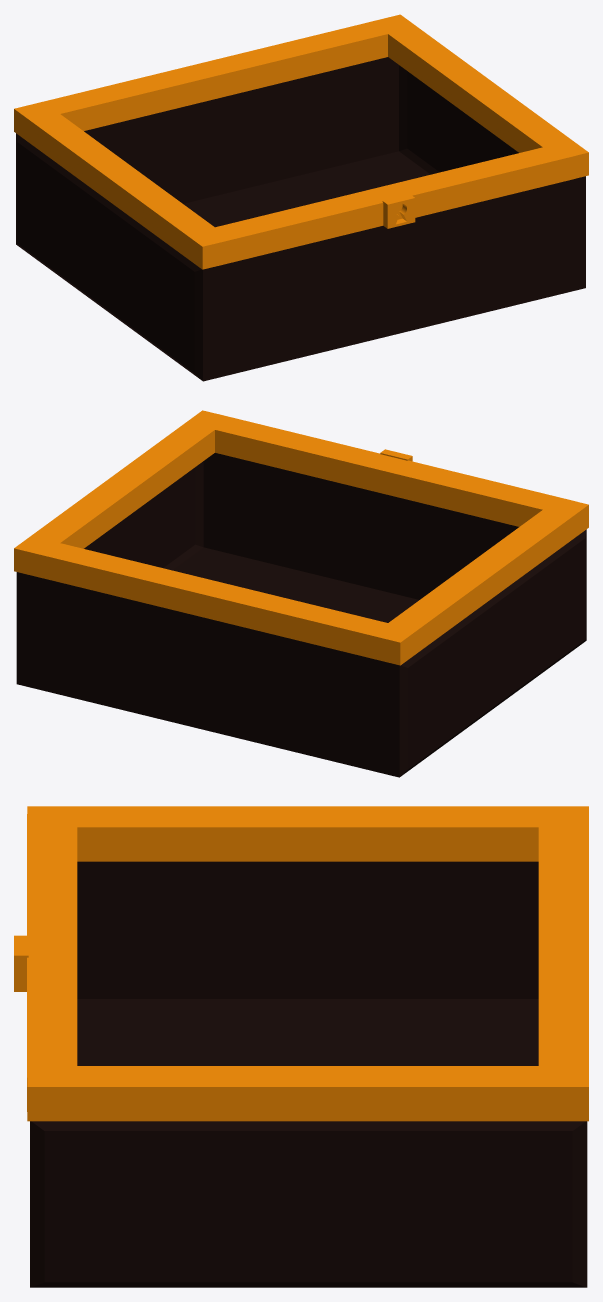
Rendered from bauCaixa.FBX.
The picture shows the model from 3 angles, top to bottom: view 1: azimuth 30°, elevation 25°; view 2: azimuth 150°, elevation 25°; view 3: azimuth 270°, elevation 25°; orthographic projection. The views are drawn at different scales.
Parts seen in each view (by area): view 1: Box001; view 2: Box001; view 3: Box001.
Part boxes in pixels (box(x1,y1,x2,y2)): Box001: box(14, 14, 588, 381); Box001: box(14, 410, 588, 777); Box001: box(14, 806, 588, 1287).
Size of the model in its own units: 65.18 by 21.89 by 55.88.
